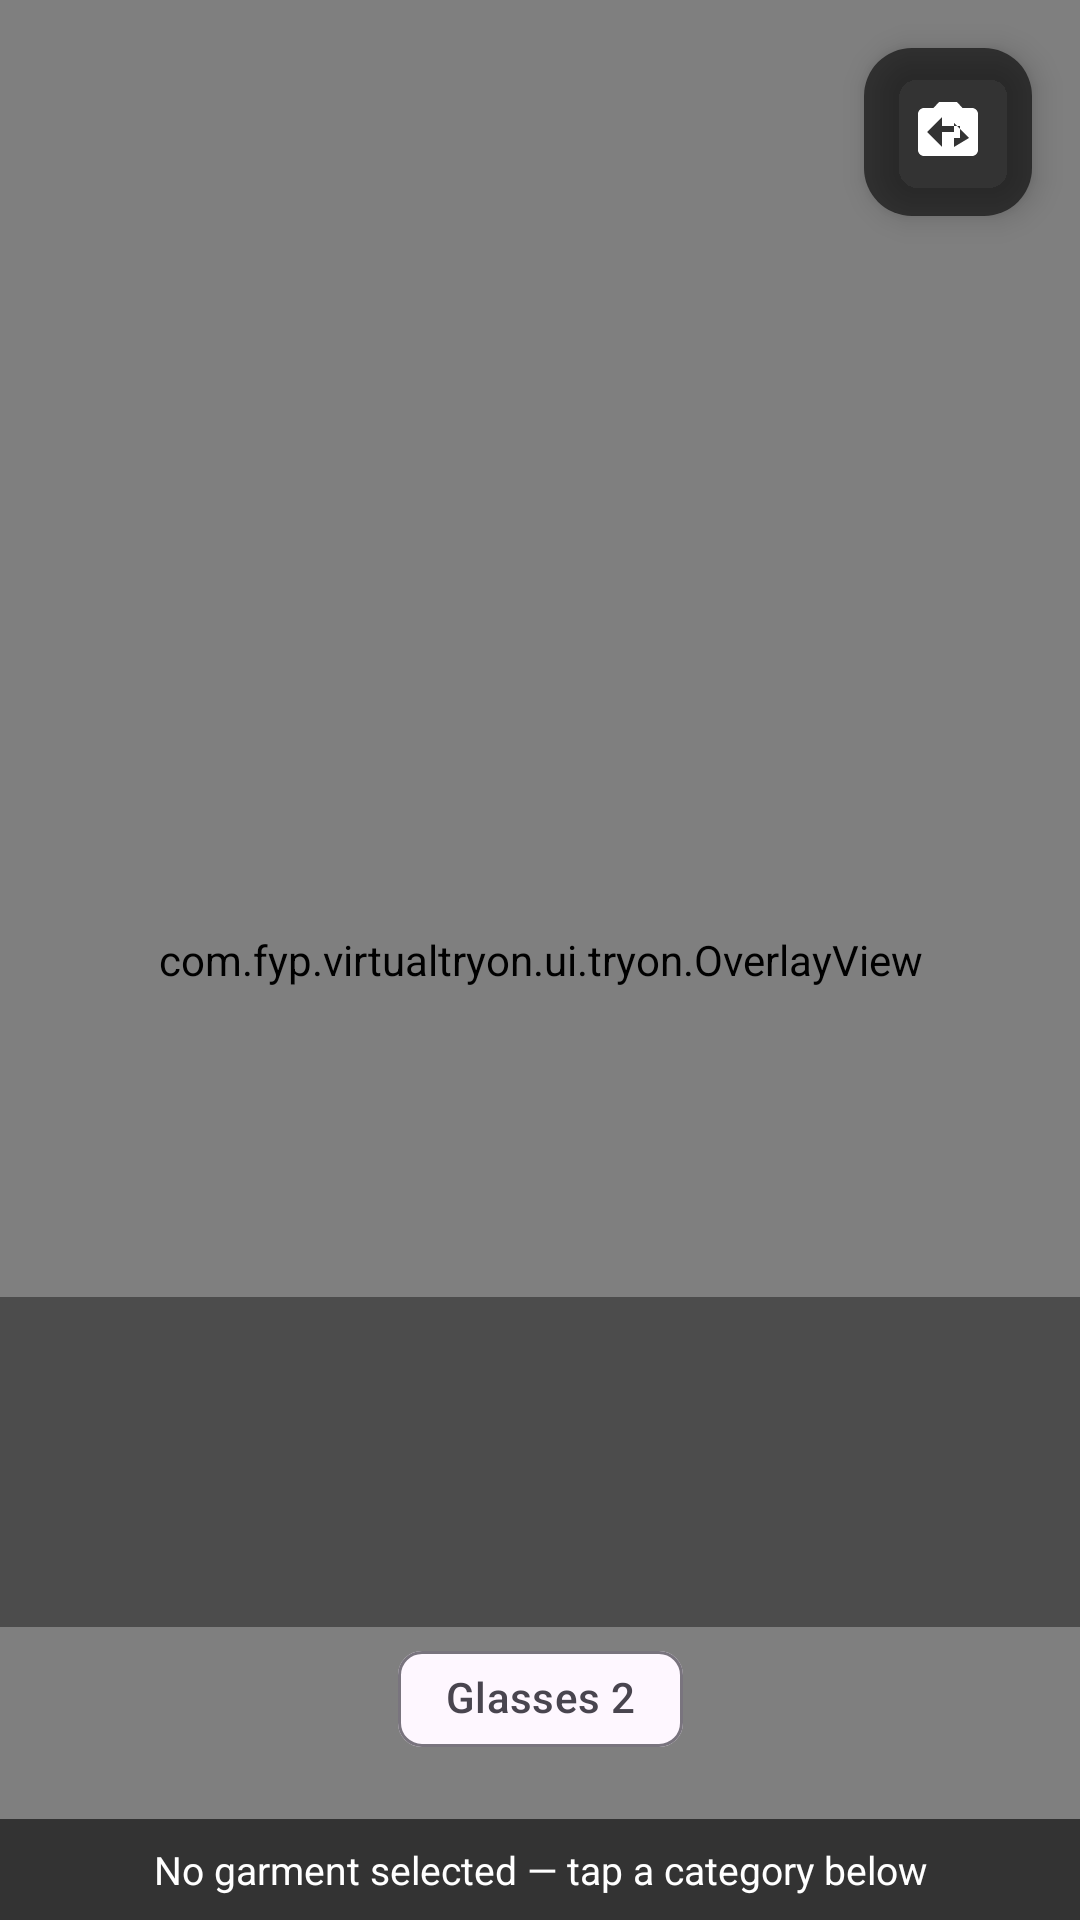

Locate icon controls on the screen. Image size 1080x1920, boxes as (x1, y1, x2, y2).
Flip camera: (864, 48, 1032, 216)
